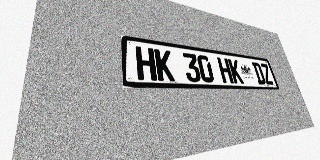0: (196, 54, 215, 83)
3: (182, 52, 202, 82)
D: (251, 62, 267, 84)
H: (135, 46, 157, 81), (217, 57, 234, 83)
K: (154, 49, 175, 81), (228, 59, 244, 84)
Z: (260, 63, 274, 85)
